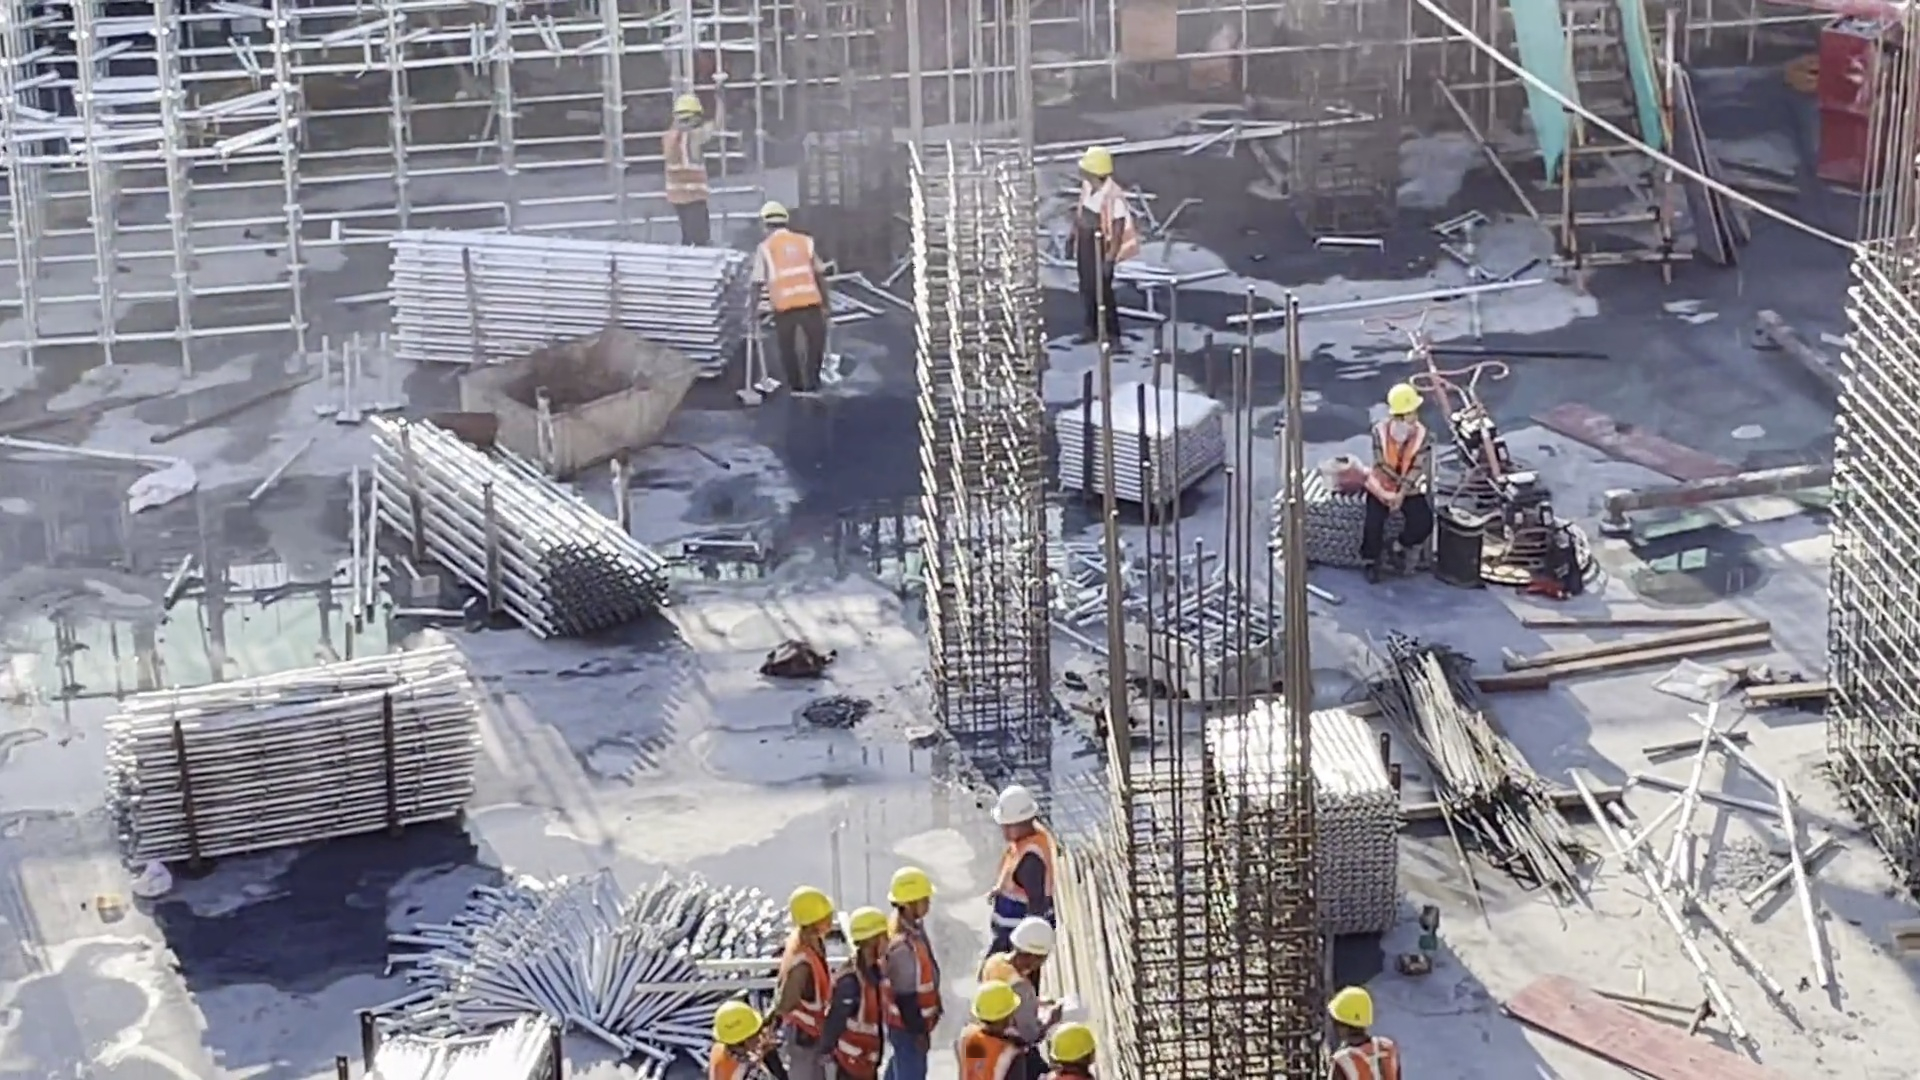helmet: (893, 861, 961, 936), (849, 904, 911, 977), (704, 1007, 789, 1059), (994, 781, 1053, 836), (1304, 986, 1374, 1032), (793, 892, 841, 954), (1059, 1029, 1111, 1074), (1018, 917, 1054, 977), (971, 982, 1018, 1024), (1069, 147, 1111, 189), (768, 192, 801, 234), (679, 99, 714, 134), (1396, 391, 1429, 424)
hopper: (474, 334, 694, 474)
person: (739, 205, 831, 398), (1353, 380, 1446, 556), (1068, 131, 1129, 320), (881, 866, 936, 1066), (784, 873, 834, 1063), (663, 86, 719, 250), (839, 905, 888, 1080), (1009, 785, 1059, 923), (1321, 988, 1393, 1080), (711, 993, 763, 1080), (951, 998, 997, 1080), (994, 926, 1049, 993), (1049, 1030, 1084, 1080)
rebar: (1361, 606, 1598, 916)
scaffold: (144, 647, 488, 869), (413, 369, 663, 656), (471, 221, 779, 411), (1223, 726, 1406, 931), (1056, 362, 1214, 511), (1291, 464, 1363, 581)
vest: (754, 226, 831, 327), (984, 847, 1073, 926), (898, 934, 963, 1039), (658, 129, 728, 211), (831, 969, 894, 1051), (1386, 404, 1428, 499), (1323, 1029, 1396, 1080), (1084, 189, 1133, 266), (804, 957, 846, 1039), (999, 951, 1053, 1004), (968, 1037, 1016, 1080), (703, 1037, 713, 1042)
